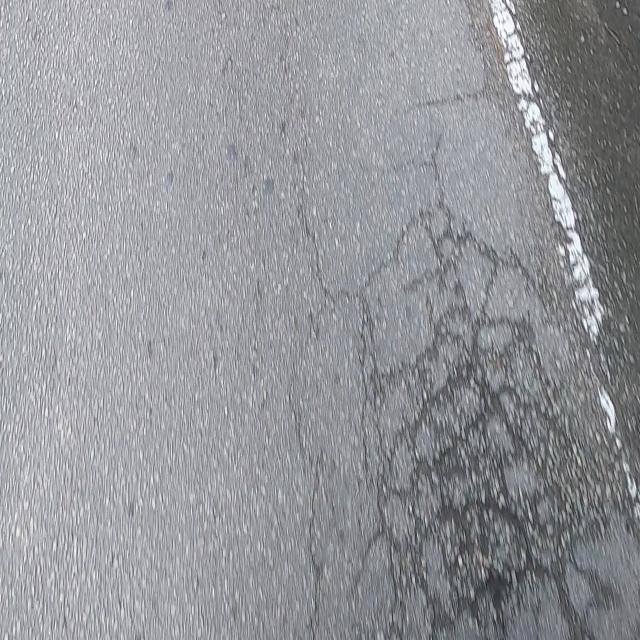Retak-Buaya: (359, 197, 617, 640)
